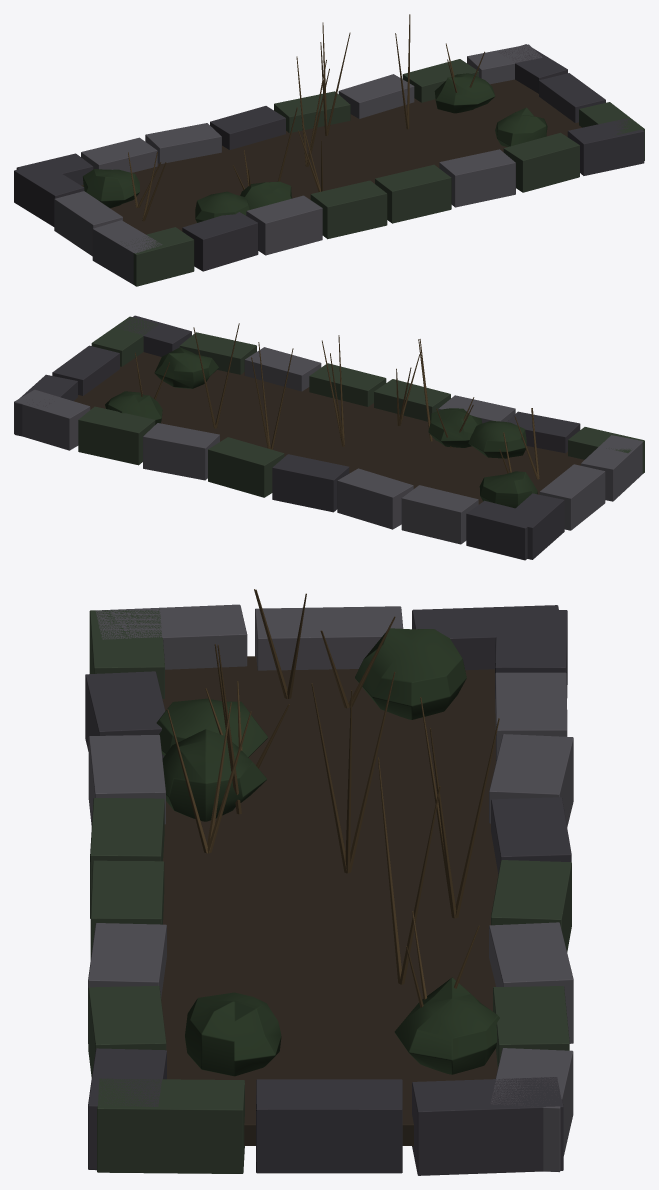
The model's file is SM_ENV_Canteiro.fbx.
3 renders of one model, top to bottom at view 1: azimuth 30°, elevation 25°; view 2: azimuth 150°, elevation 25°; view 3: azimuth 270°, elevation 25°, orthographic. The views are drawn at different scales.
Parts seen in each view (by area): view 1: SM_ENV_Canteiro; view 2: SM_ENV_Canteiro; view 3: SM_ENV_Canteiro.
Boxes of the visible parts, x1,y1,x2,y2 form: SM_ENV_Canteiro: (14,14,644,286); SM_ENV_Canteiro: (14,315,644,560); SM_ENV_Canteiro: (85,589,573,1175).
Size of the model in its own units: 3.03 by 0.6721 by 1.23.
